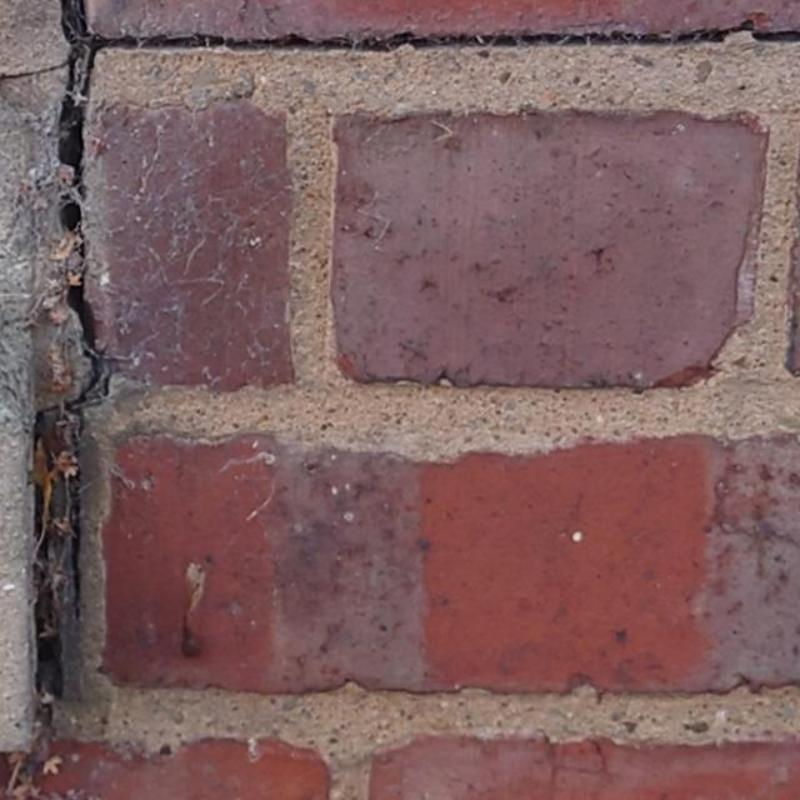crack: (0, 0, 799, 730)
